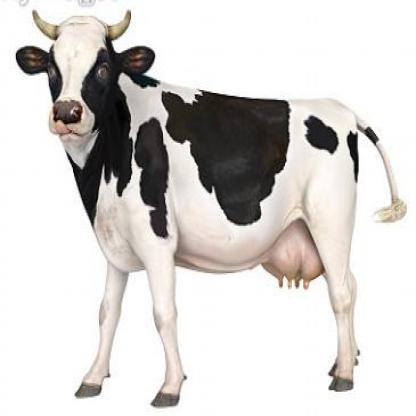cow: (16, 35, 358, 407)
